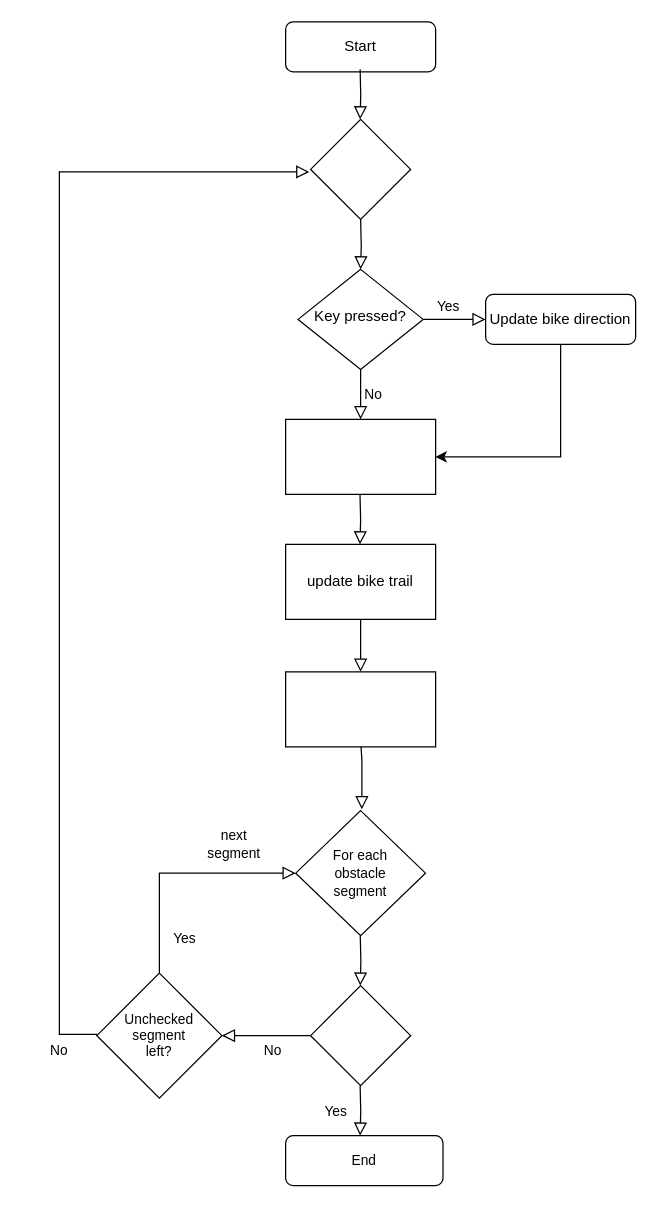
Image size: 658x1208. Some labels were removed from this diagram. Each missing label, with the centre of its shape:
Bike move forward one step: point 360,456
Collided w/ bike?: point 360,1035
For each bike: point 360,168
Update score board: point 360,709
